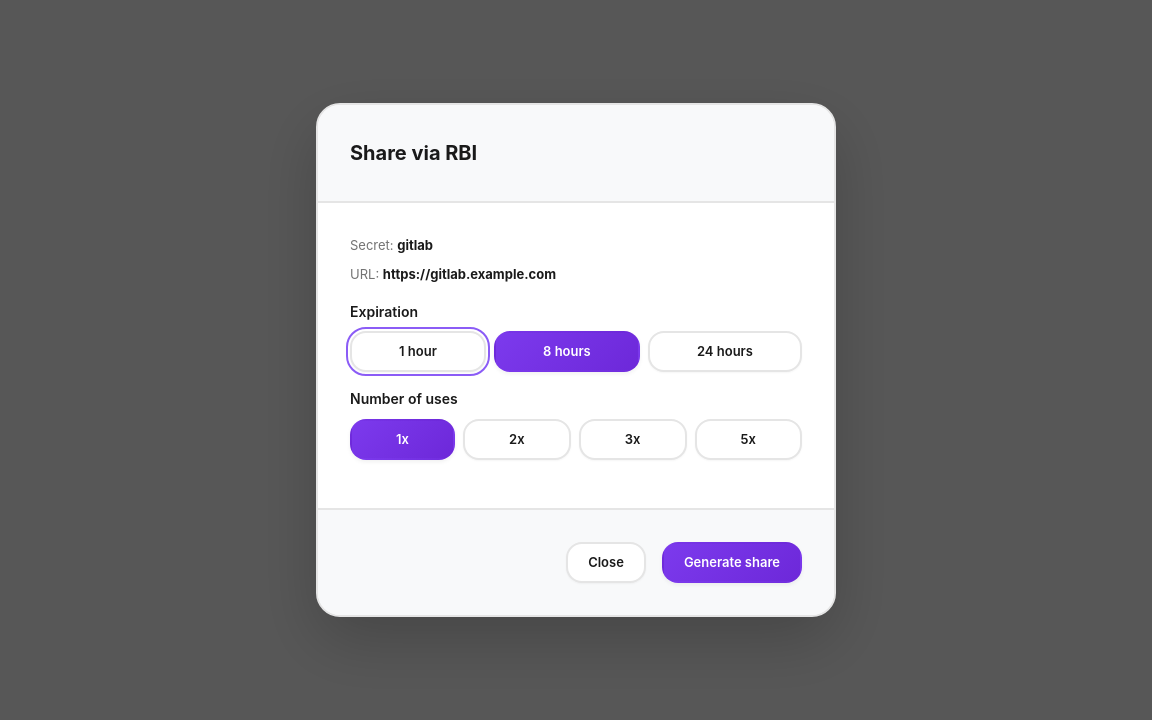
Test: REMOTE-4 — wrapping token jamais laissé orphelin › proxy en erreur (500) : wrapping token consommé
Click the button "Generate share". click: coordinates (732, 562)
box: x1=662 y1=542 x2=802 y2=583
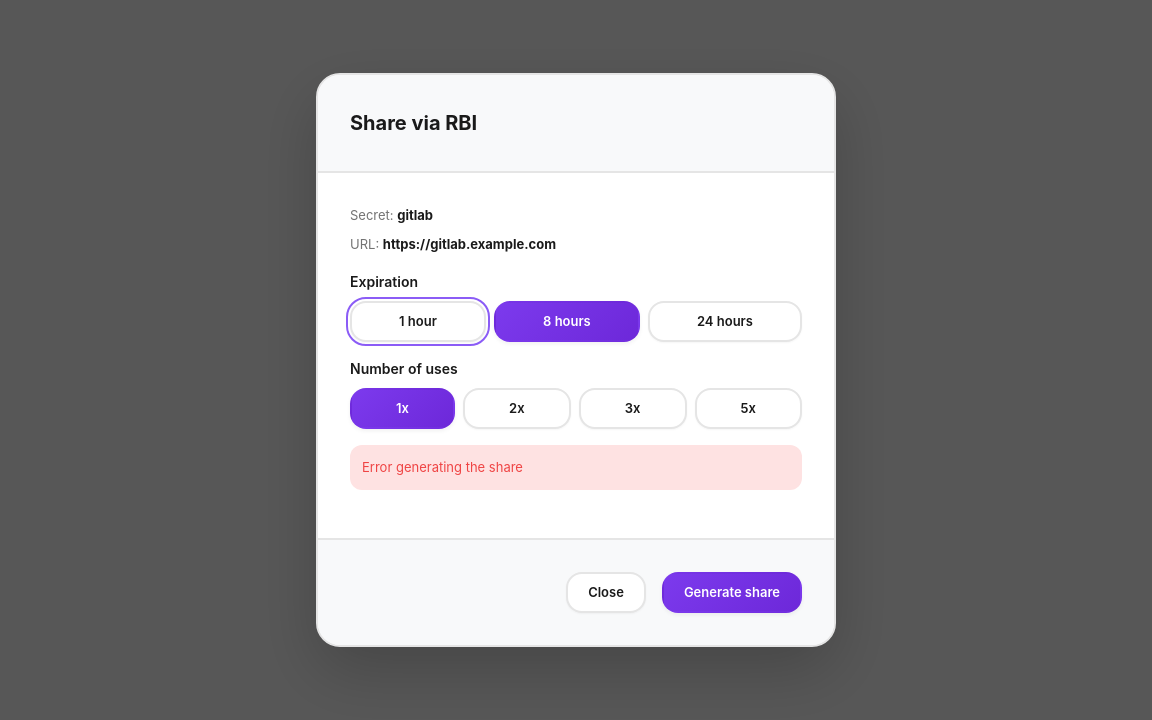
Expected: the message "Error generating the share" is shown, x1=350 y1=445 x2=802 y2=490
